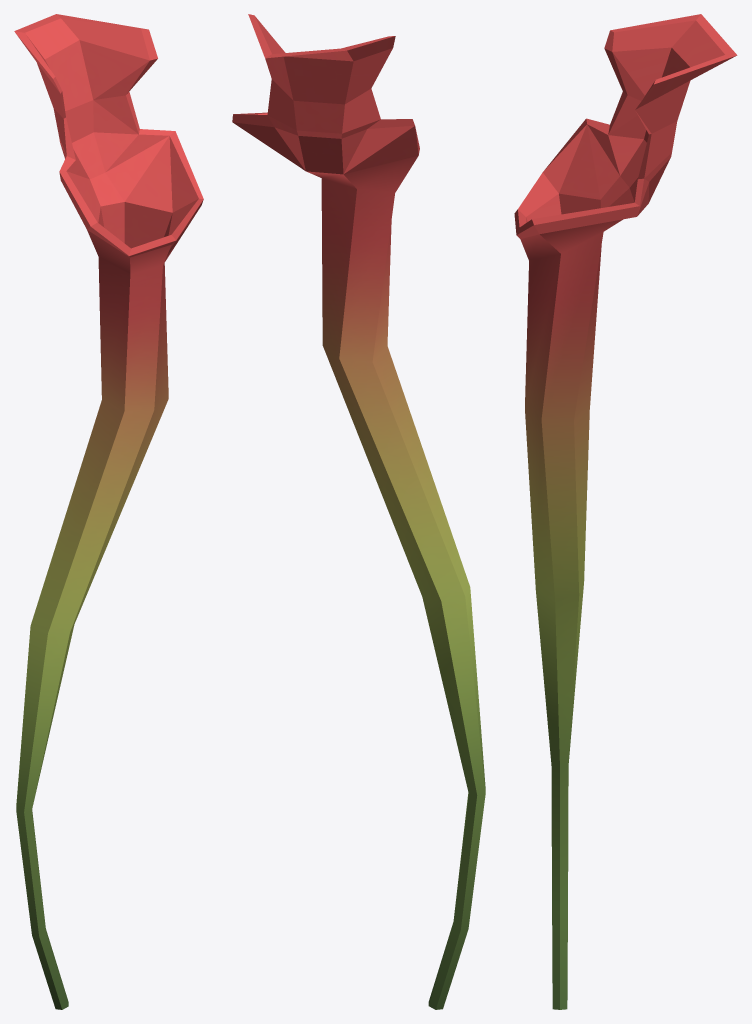
Rendered from plantJungle3.fbx.
The picture shows the model from 3 angles, left to right: view 1: azimuth 30°, elevation 25°; view 2: azimuth 150°, elevation 25°; view 3: azimuth 270°, elevation 25°; orthographic projection. The views are drawn at different scales.
Visible parts, largest first — view 1: plantJungle3; view 2: plantJungle3; view 3: plantJungle3.
Part boxes in pixels (x1,y1,x2,y2): plantJungle3: (14, 14, 203, 1009); plantJungle3: (232, 14, 485, 1009); plantJungle3: (514, 14, 737, 1009).
Size of the model in its own units: 279 by 1246 by 250.
